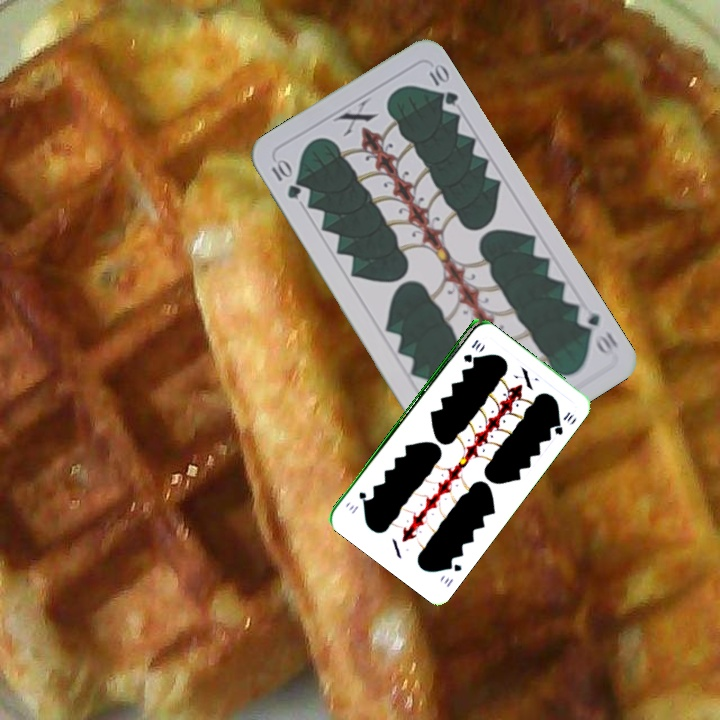G10: (572, 307, 621, 359), (267, 155, 304, 202), (440, 557, 464, 590), (459, 335, 484, 364)
